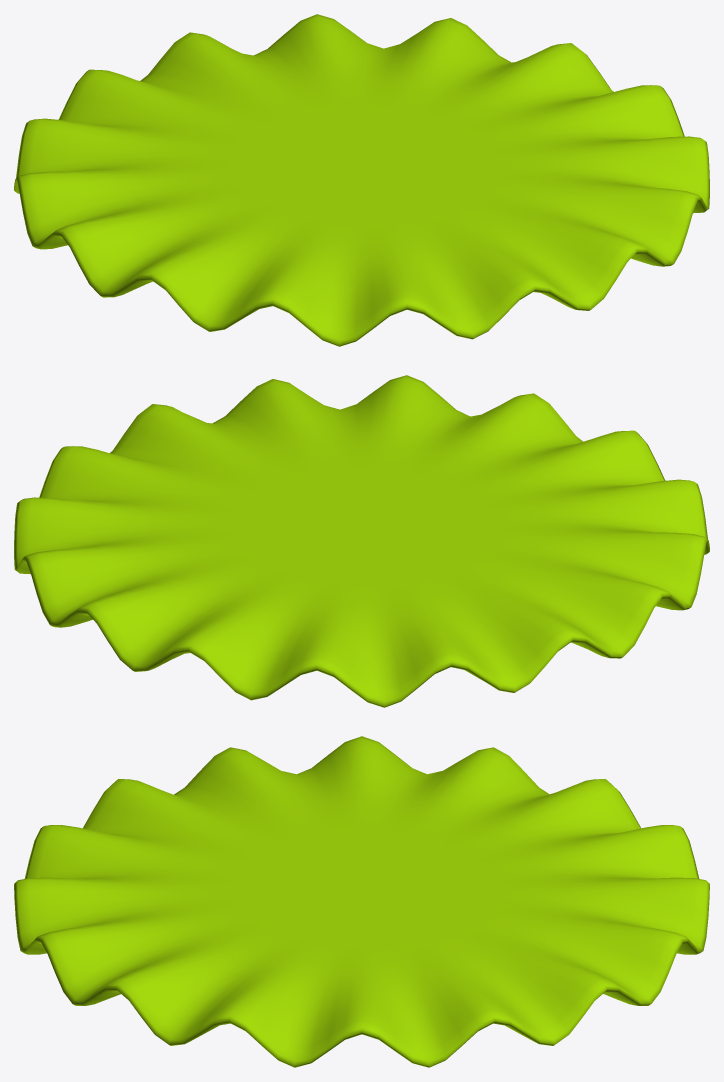
The model's file is Lettuce.fbx.
3 views of the same model, one above another, from view 1: azimuth 30°, elevation 25°; view 2: azimuth 150°, elevation 25°; view 3: azimuth 270°, elevation 25° (orthographic).
Parts seen in each view (by area): view 1: Cylinder.016; view 2: Cylinder.016; view 3: Cylinder.016.
Boxes of the visible parts, x1=… form: Cylinder.016: x1=14, y1=14, x2=709, y2=346; Cylinder.016: x1=14, y1=375, x2=709, y2=707; Cylinder.016: x1=14, y1=736, x2=709, y2=1067.
Bounding box in the file's own units: 196 × 14.19 × 196.
